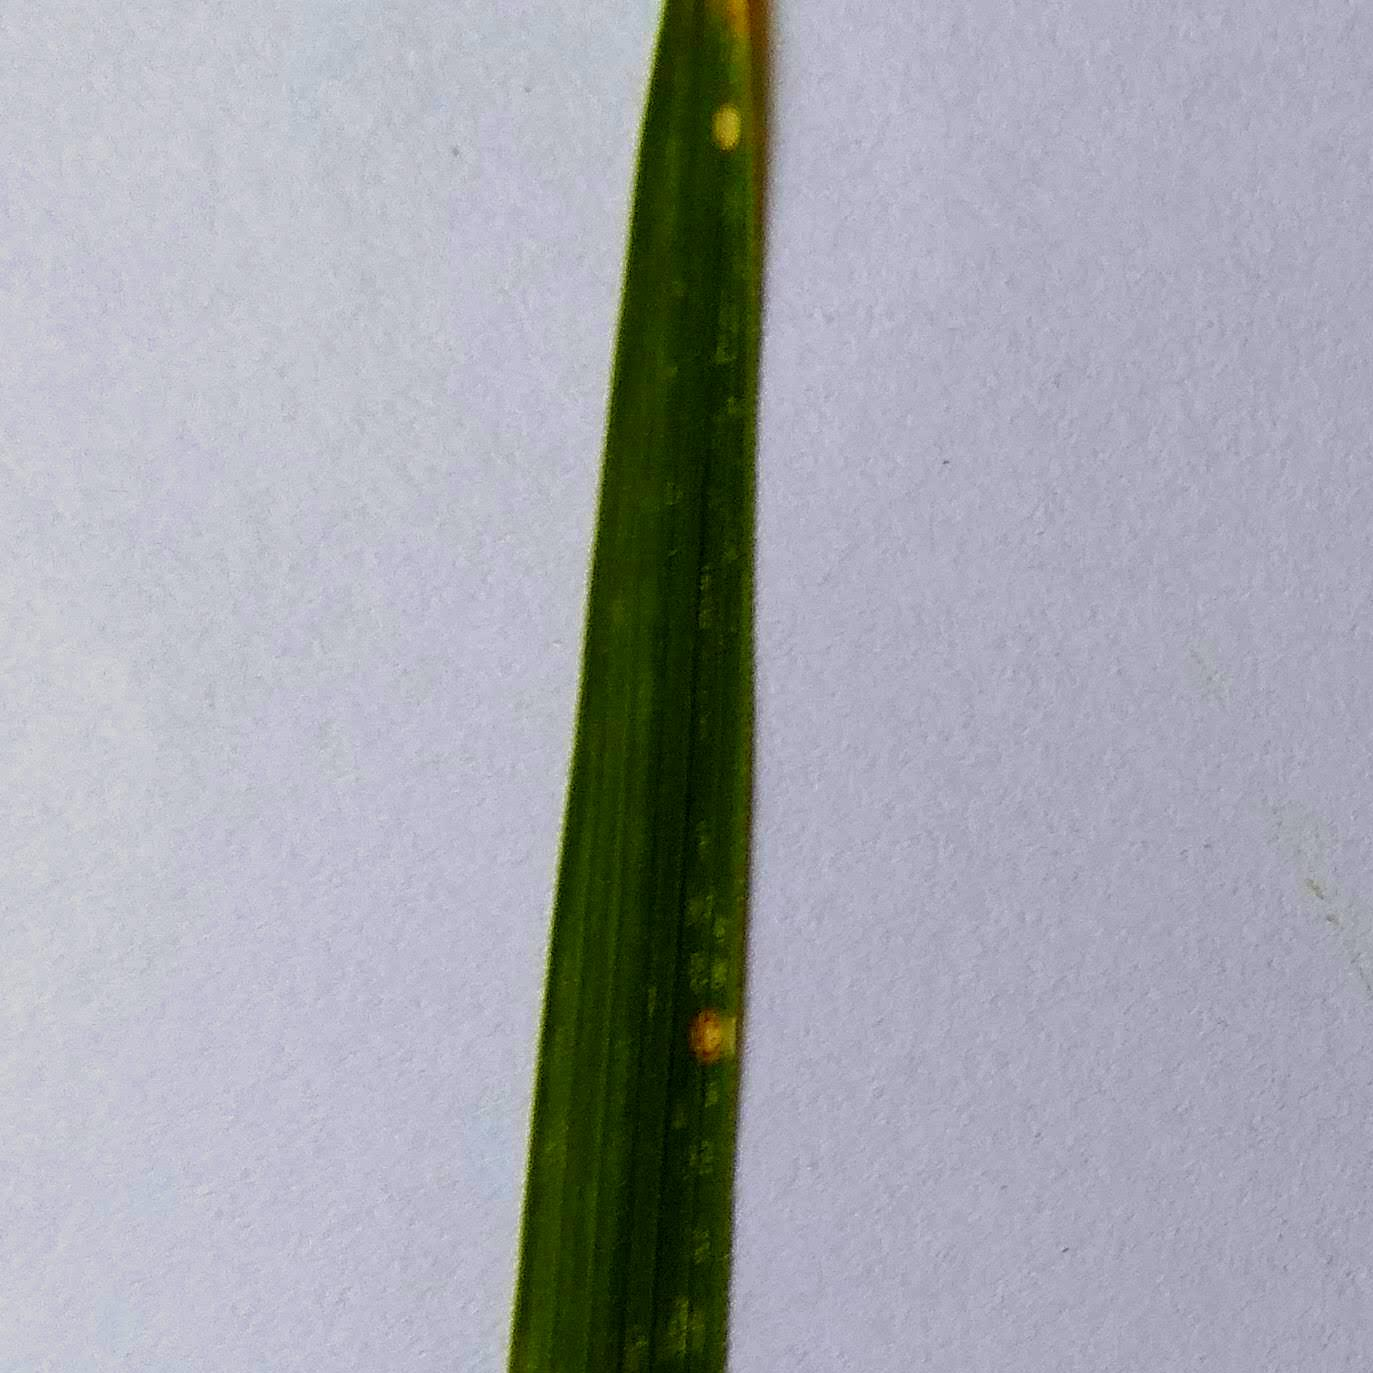1 RiceBlast: (644, 968, 751, 1074), (695, 87, 775, 167)
